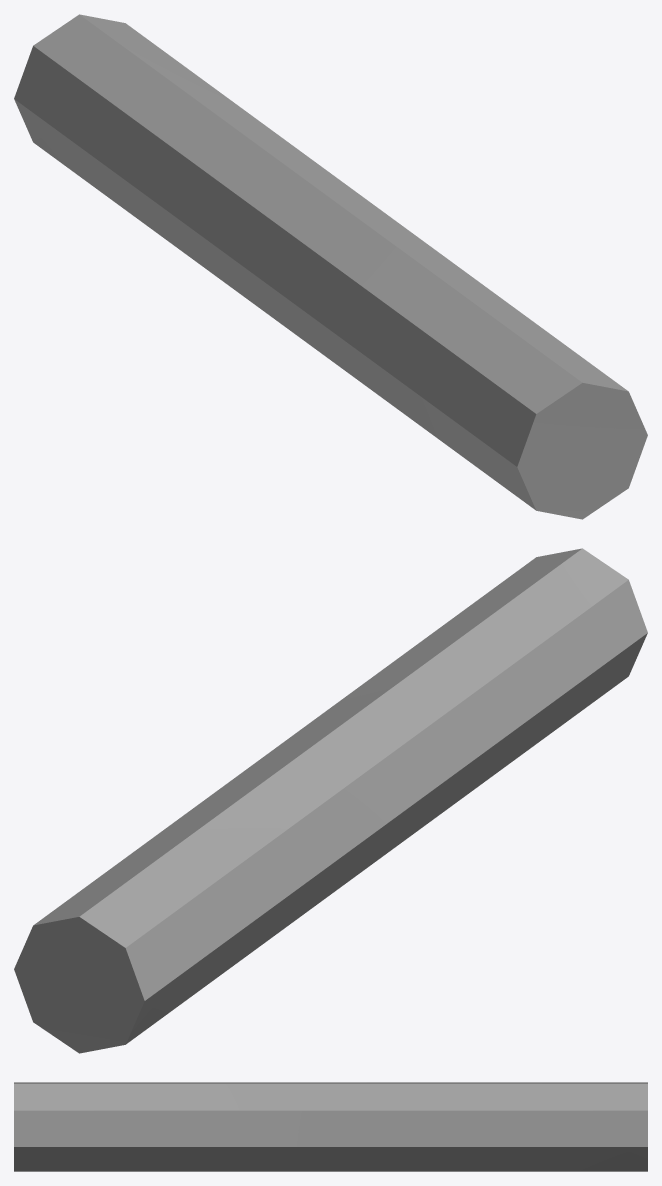
The model's file is gate_2.fbx.
The picture shows the model from 3 angles, top to bottom: view 1: azimuth 30°, elevation 25°; view 2: azimuth 150°, elevation 25°; view 3: azimuth 270°, elevation 25°; orthographic projection. The views are drawn at different scales.
Parts seen in each view (by area): view 1: Cylinder.001; view 2: Cylinder.001; view 3: Cylinder.001.
Part boxes in pixels (x1,y1,x2,y2): Cylinder.001: [14, 14, 647, 519]; Cylinder.001: [14, 548, 647, 1053]; Cylinder.001: [14, 1082, 647, 1171].
Size of the model in its own units: 30 by 30 by 200.
